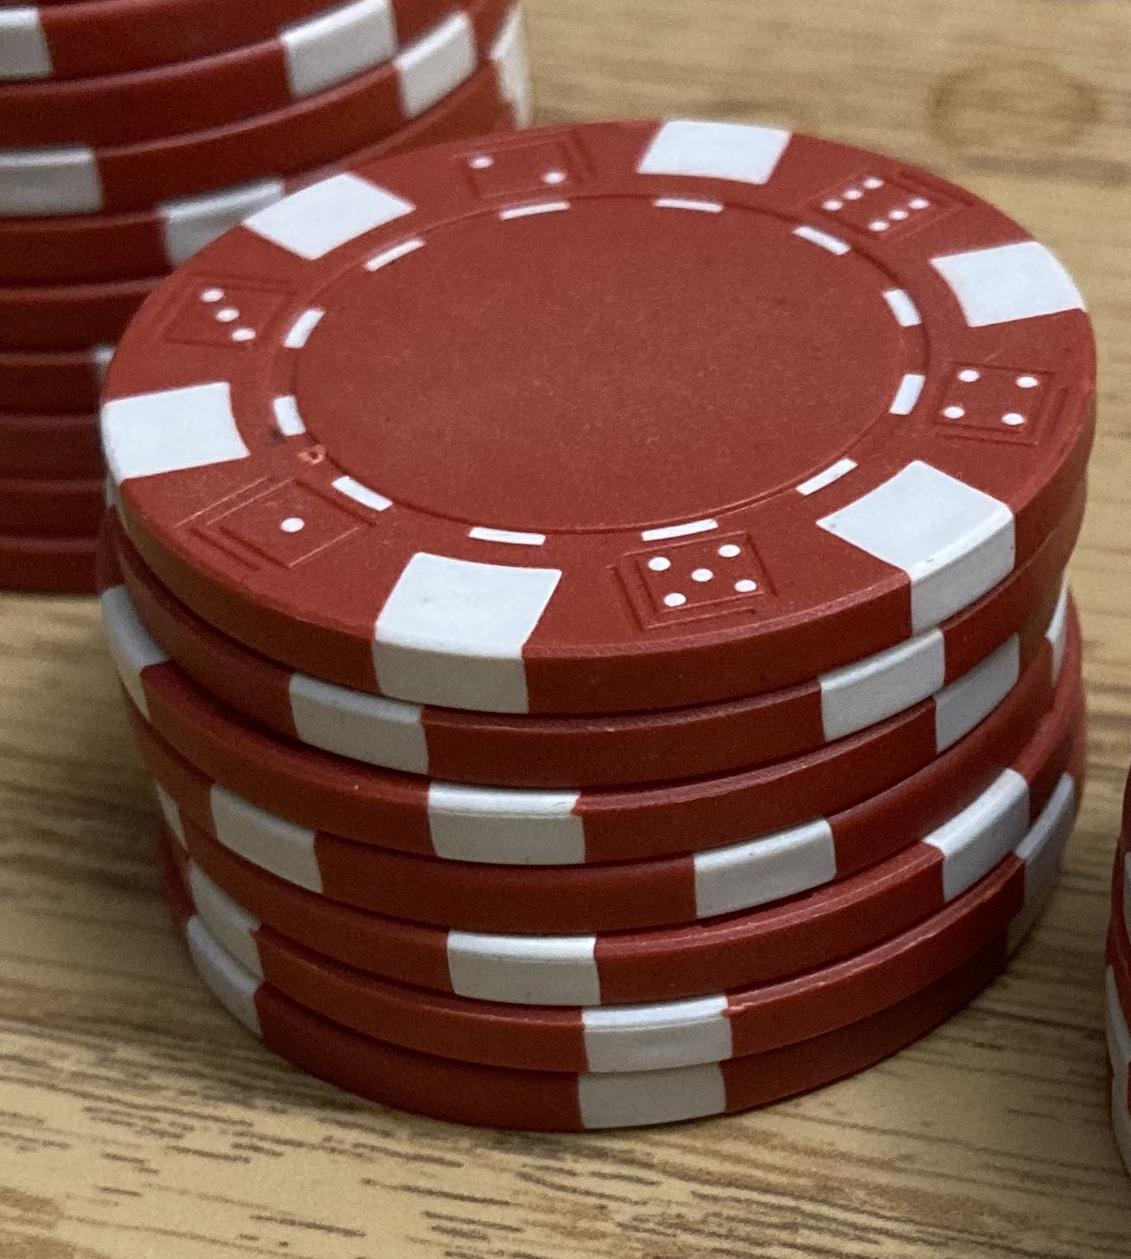Chip: (1, 1, 1131, 1259)
